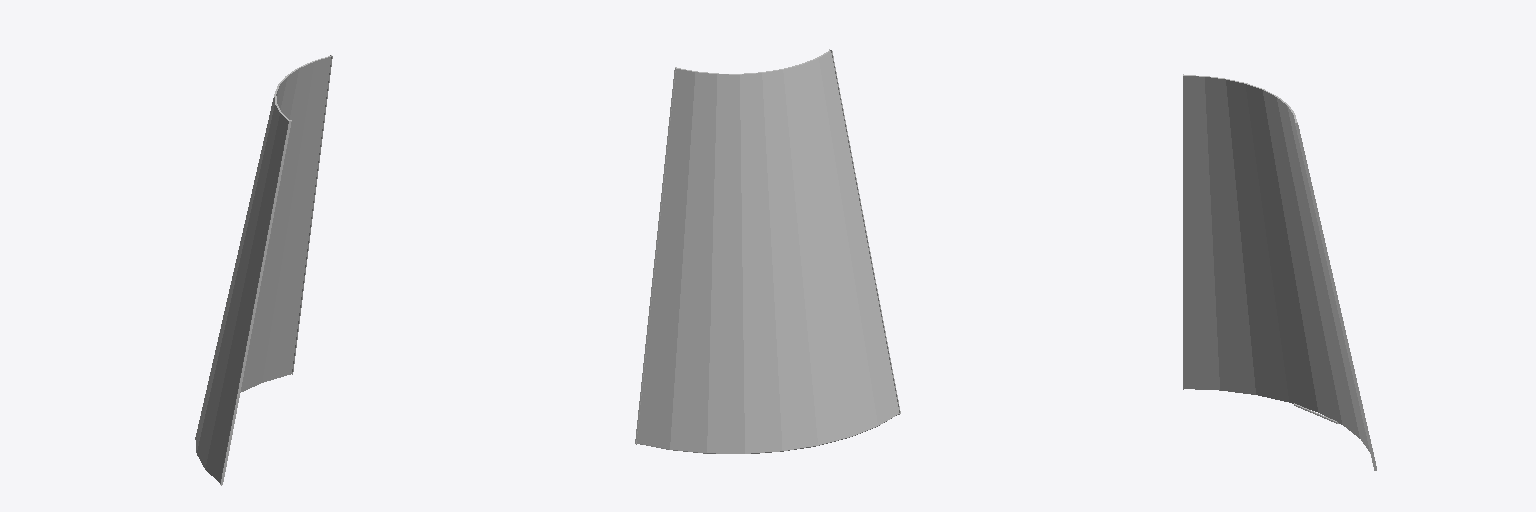
File: Saturn V_4_1.obj
3 renders of one model, left to right at view 1: azimuth 30°, elevation 25°; view 2: azimuth 150°, elevation 25°; view 3: azimuth 270°, elevation 25°, orthographic.
Parts seen in each view (by area): view 1: LEM_Fairing.002_Cylinder.018; view 2: LEM_Fairing.002_Cylinder.018; view 3: LEM_Fairing.002_Cylinder.018.
Part boxes in pixels (x1,y1,x2,y2): LEM_Fairing.002_Cylinder.018: (195,55,332,485); LEM_Fairing.002_Cylinder.018: (635,49,900,453); LEM_Fairing.002_Cylinder.018: (1183,74,1376,470).
Size of the model in its own units: 3.31 by 6.54 by 3.31.